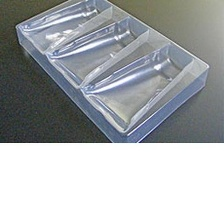plastic_box: (9, 0, 215, 141)
